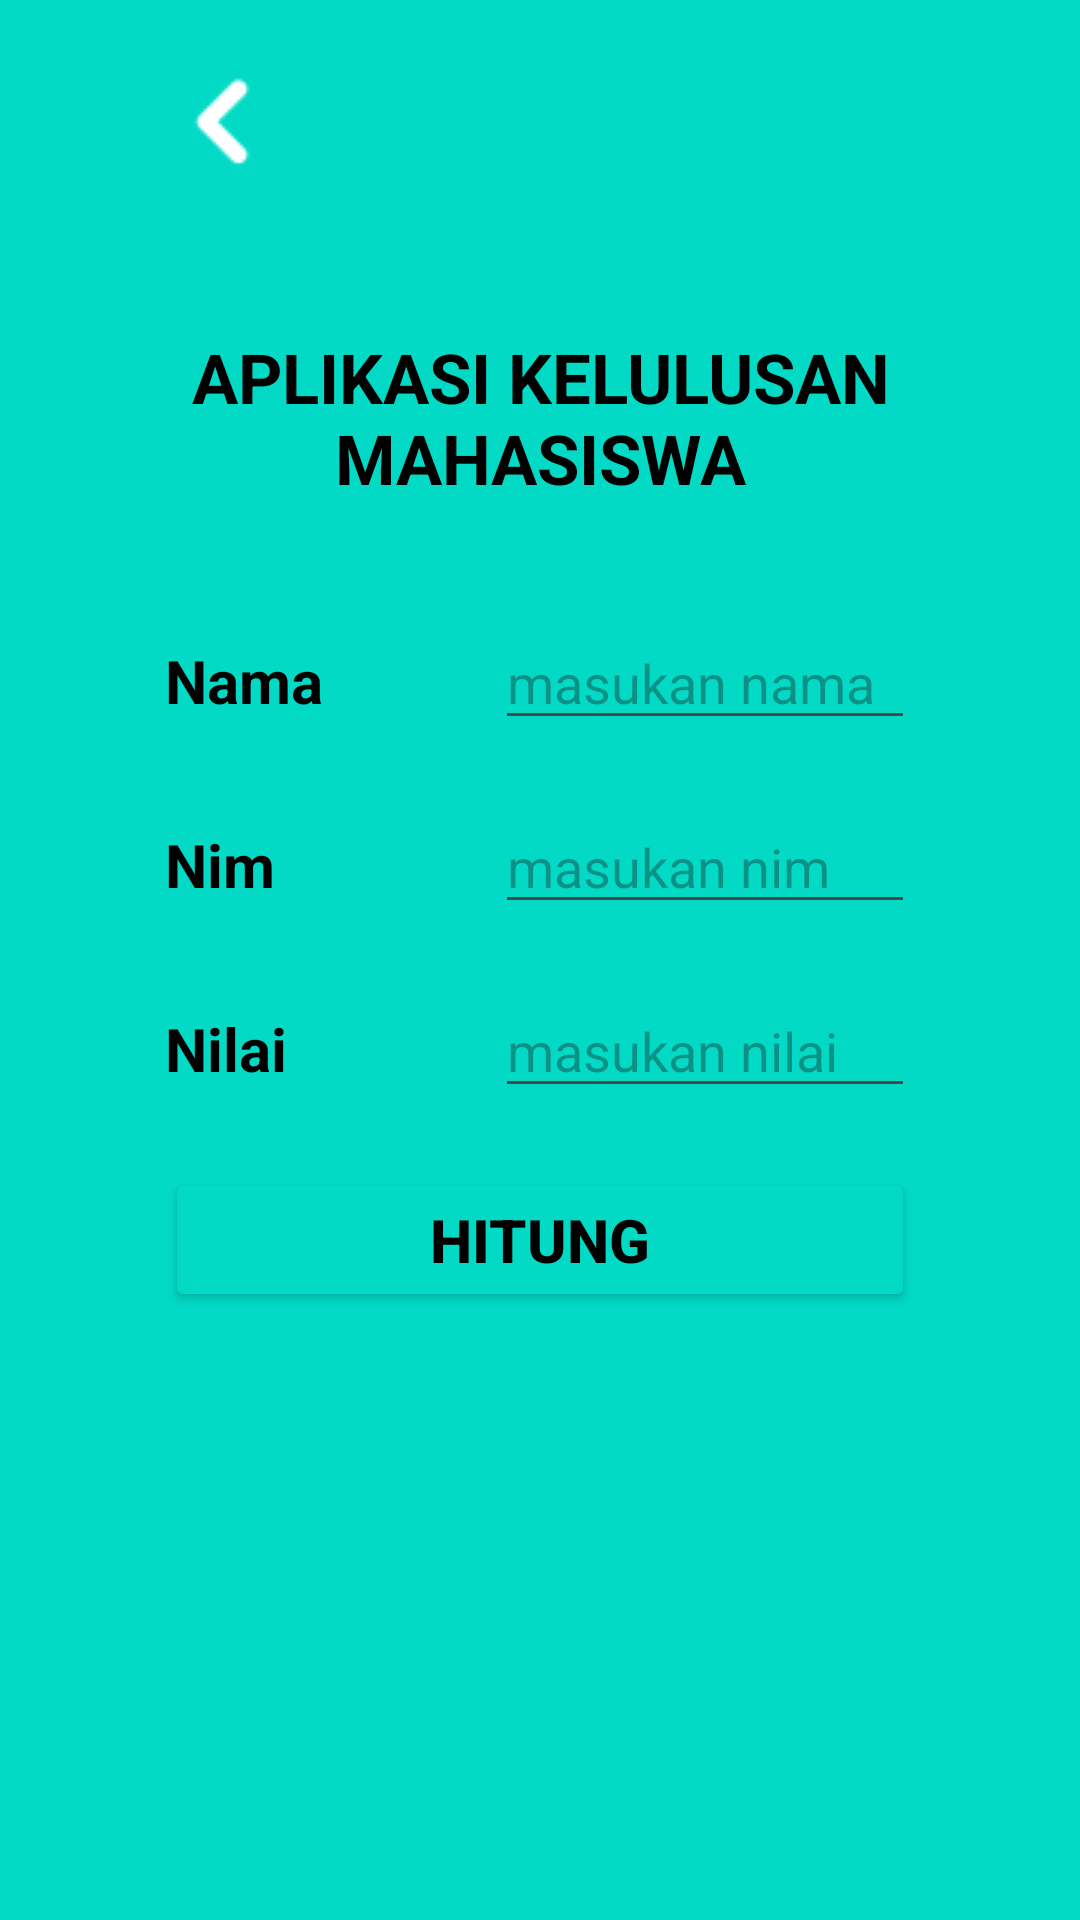

Named icons in this screenshot (1080×1920) and their bounding boxes, (x1, y1, x2, y2):
icback: (195, 78, 250, 165)
